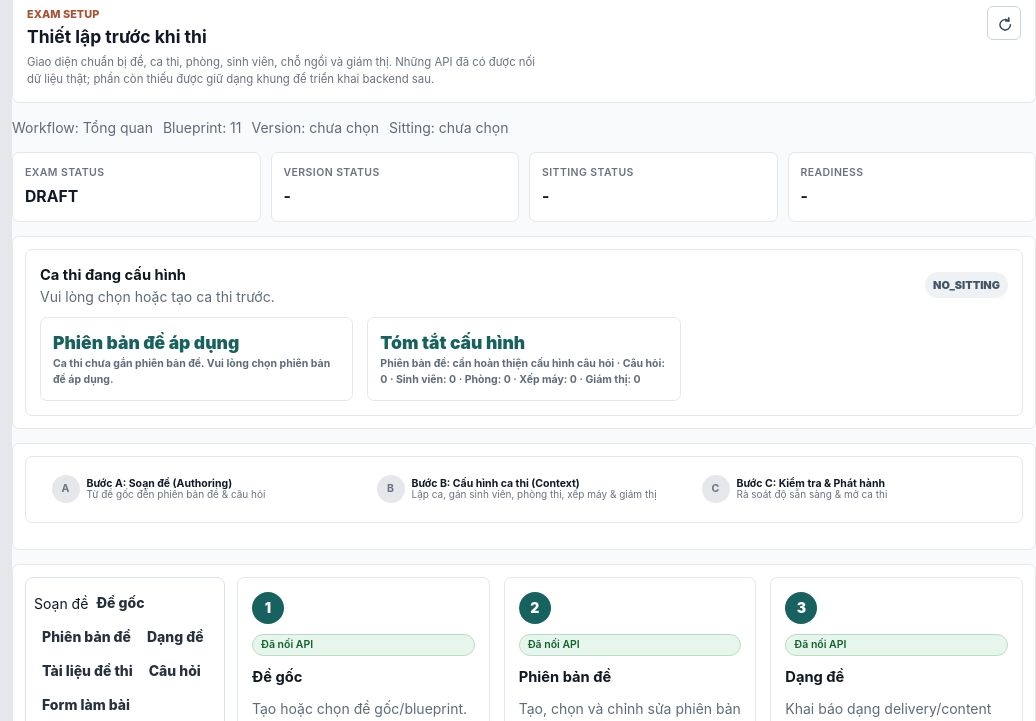
ExamSetupPage API-client boundary › loading base data does not auto-select the first class section
Click the button "Đề gốc" at (120, 602), box left=88, top=586, right=152, bottom=620
(page scrolled)
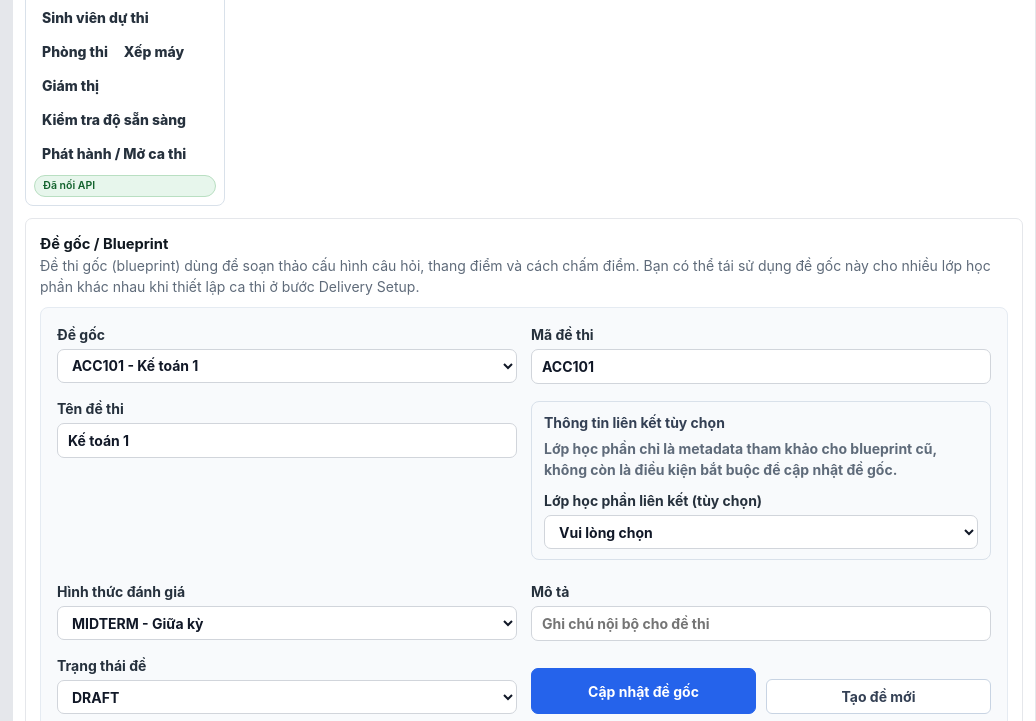
Expected: the field labelled "Mã đề thi" is shown, left=531, top=349, right=991, bottom=384
Expected: the dropdown labelled "Lớp học phần liên kết (tùy chọn)" shows "Vui lòng chọn", left=544, top=516, right=978, bottom=550
